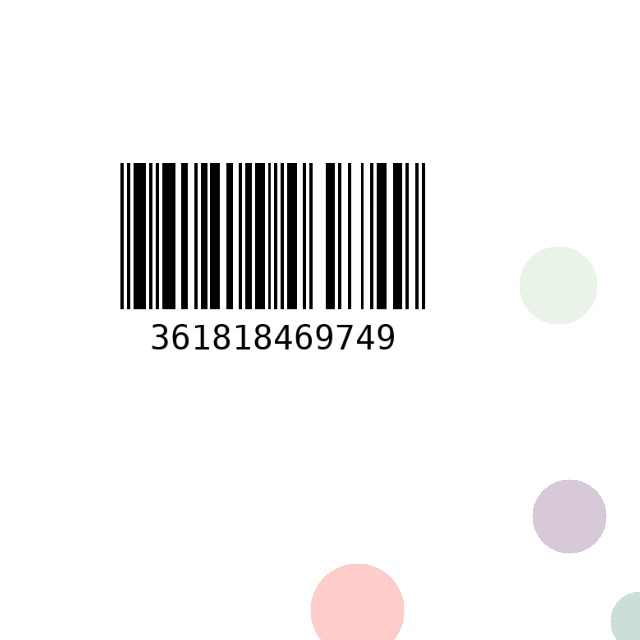barcode: (58, 154, 488, 384)
